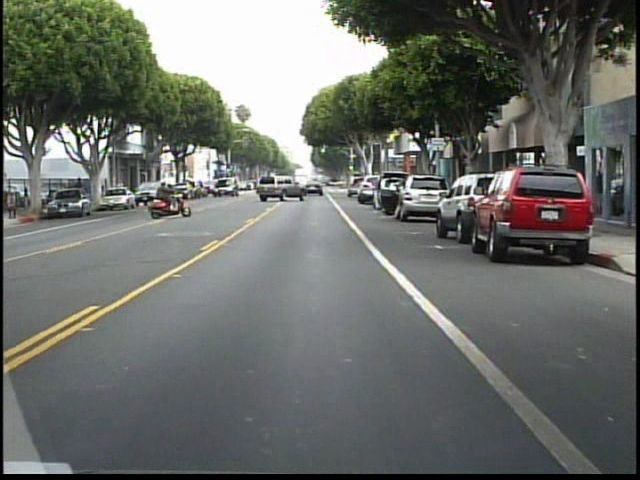person: (149, 178, 174, 214), (72, 171, 89, 209)
